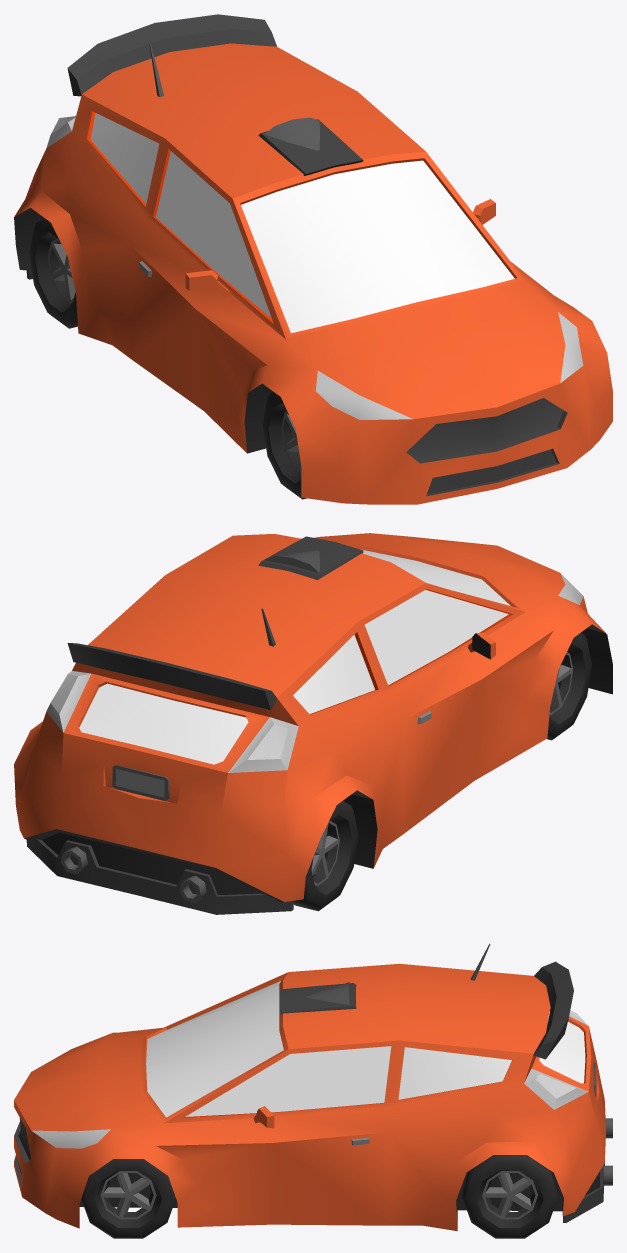
File: rally.obj
3 renders of one model, top to bottom at view 1: azimuth 30°, elevation 25°; view 2: azimuth 150°, elevation 25°; view 3: azimuth 270°, elevation 25°, orthographic. The views are drawn at different scales.
Parts seen in each view (by area): view 1: rally, wheels.018, wheels.019; view 2: rally, wheels.018, wheels.019; view 3: rally, wheels.041, wheels.040.
Boxes of the visible parts, x1,y1,x2,y2 form: rally: (14, 14, 612, 504); wheels.018: (29, 218, 77, 328); wheels.019: (262, 391, 306, 499); rally: (14, 533, 612, 914); wheels.018: (293, 801, 358, 911); wheels.019: (547, 632, 591, 740); rally: (14, 943, 612, 1231); wheels.041: (462, 1155, 557, 1238); wheels.040: (81, 1159, 175, 1238).
Size of the model in its own units: 1.97 by 1.62 by 4.02.
